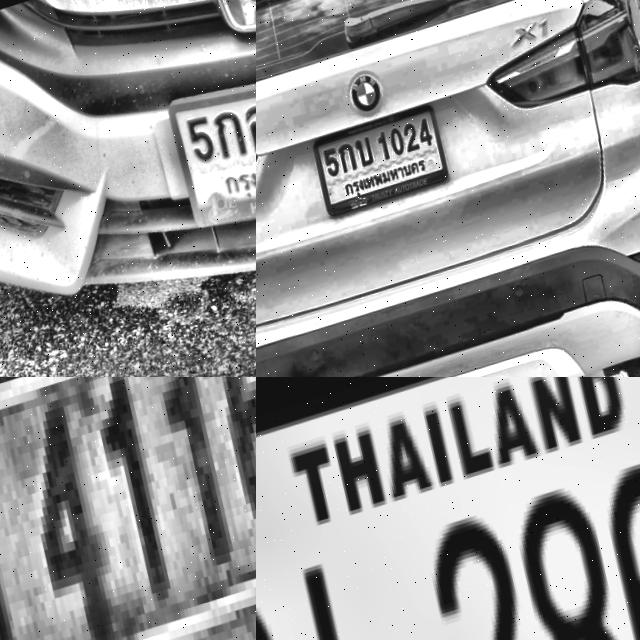license-plate: (256, 377, 640, 640), (0, 377, 256, 640), (163, 32, 256, 262), (308, 100, 456, 227)
